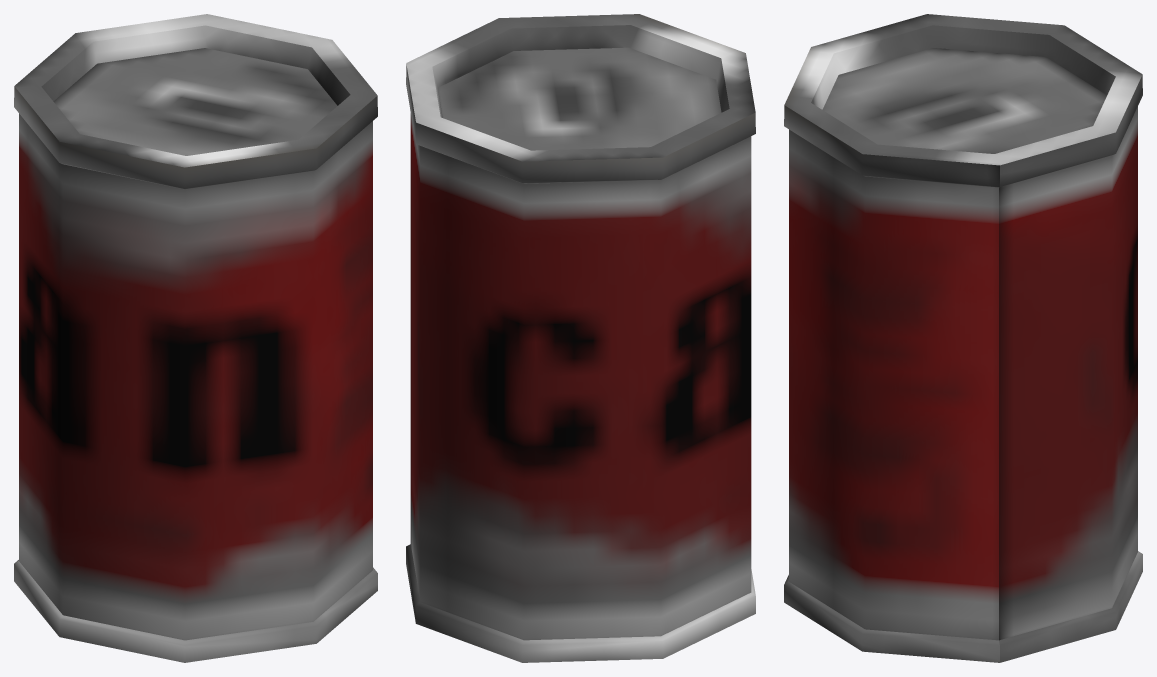
File: Can_Asset.fbx
The picture shows the model from 3 angles, left to right: view 1: azimuth 30°, elevation 25°; view 2: azimuth 150°, elevation 25°; view 3: azimuth 270°, elevation 25°; orthographic projection.
Parts seen in each view (by area): view 1: Can; view 2: Can; view 3: Can.
Part boxes in pixels (left/top/right/bottom): Can: left=14, top=14, right=377, bottom=662; Can: left=406, top=14, right=755, bottom=662; Can: left=784, top=14, right=1142, bottom=662.
Size of the model in its own units: 7.55 by 7.55 by 11.55.
1 material, 1 textured.
